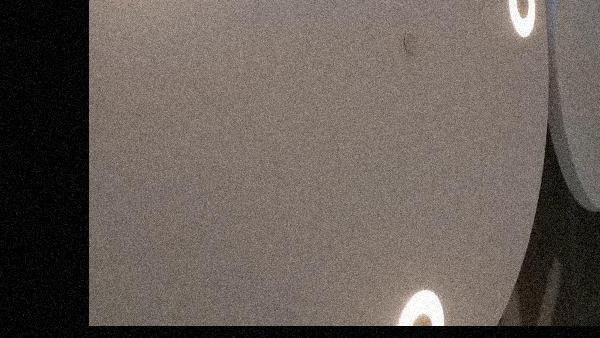light_on: (391, 276, 448, 326), (502, 0, 539, 43)
